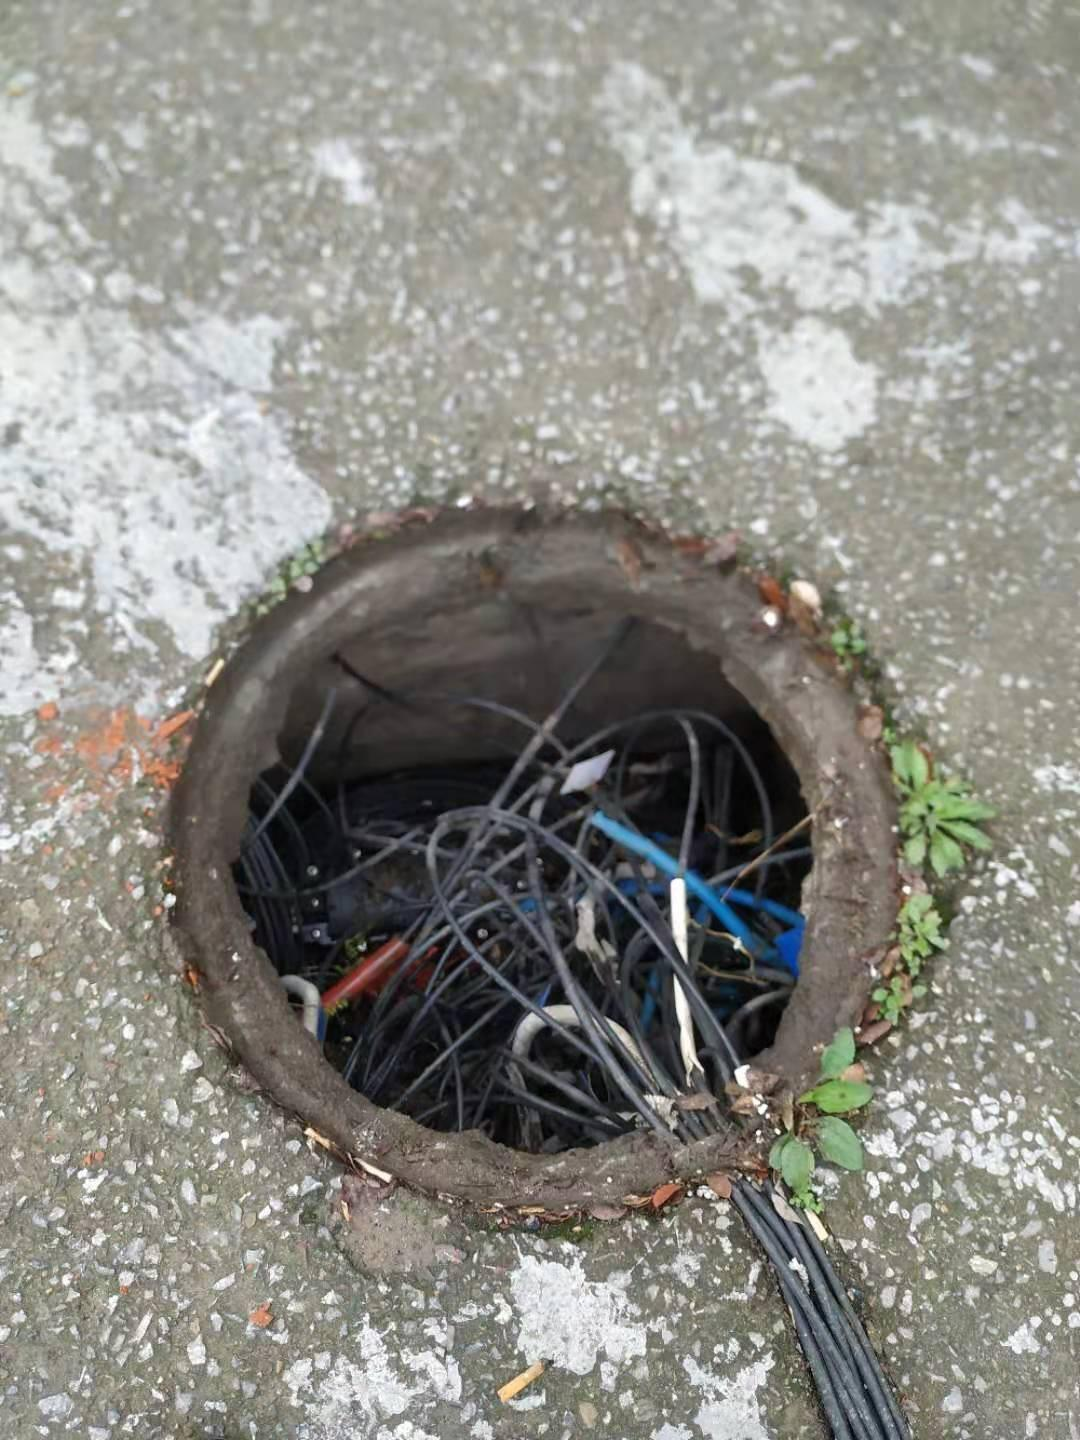wellcover: (146, 498, 950, 1226)
